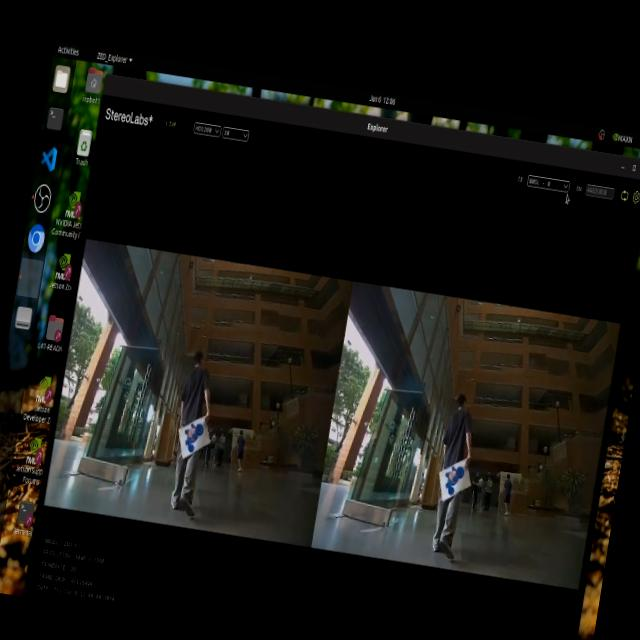blue: (436, 458, 479, 505), (176, 422, 210, 448)
